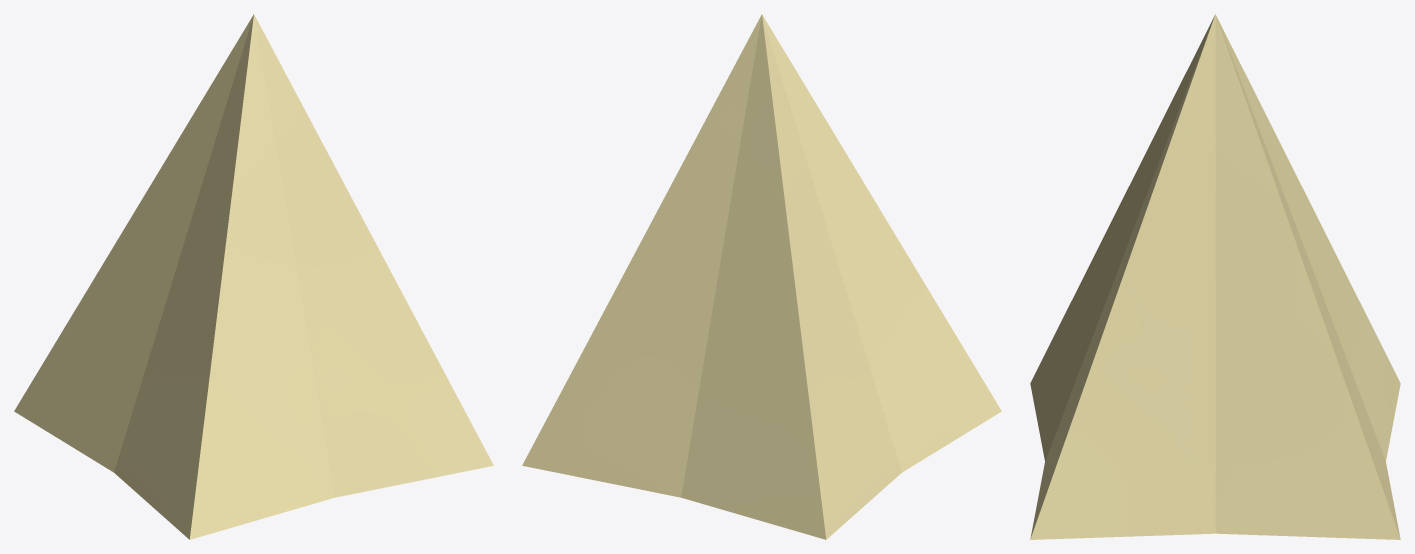
The model's file is runway-light-tip.fbx.
The picture shows the model from 3 angles, left to right: view 1: azimuth 30°, elevation 25°; view 2: azimuth 150°, elevation 25°; view 3: azimuth 270°, elevation 25°; orthographic projection. The views are drawn at different scales.
Parts seen in each view (by area): view 1: runway-light-tip; view 2: runway-light-tip; view 3: runway-light-tip.
Part boxes in pixels (box(x1,y1,x2,y2)): runway-light-tip: box(14, 14, 493, 539); runway-light-tip: box(522, 14, 1001, 539); runway-light-tip: box(1030, 14, 1400, 539).
Size of the model in its own units: 67.5 by 90 by 67.5.
1 material, 1 textured.
